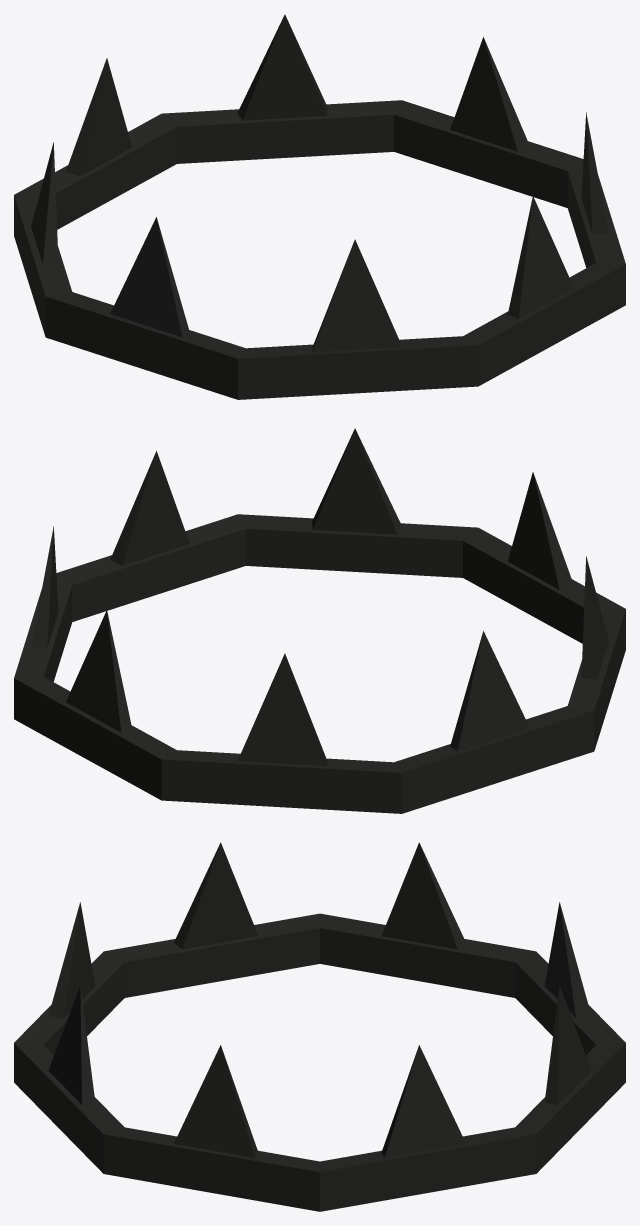
The model's file is Trap_01.fbx.
3 renders of one model, top to bottom at view 1: azimuth 30°, elevation 25°; view 2: azimuth 150°, elevation 25°; view 3: azimuth 270°, elevation 25°, orthographic. The views are drawn at different scales.
Parts seen in each view (by area): view 1: Trap_01; view 2: Trap_01; view 3: Trap_01.
Boxes of the visible parts, left/top/right/bottom form: Trap_01: left=14, top=14, right=625, bottom=399; Trap_01: left=14, top=428, right=625, bottom=813; Trap_01: left=14, top=842, right=625, bottom=1211.
Bounding box in the file's own units: 23.13 × 5.81 × 23.13.
